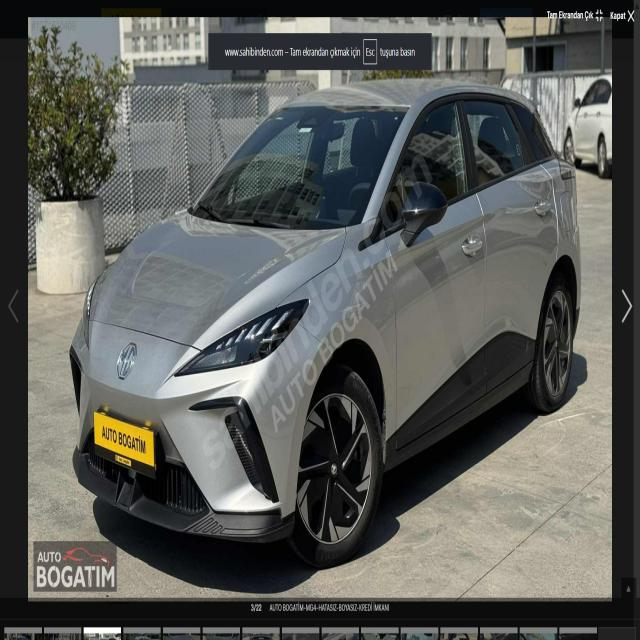mg: (111, 330, 143, 384)
